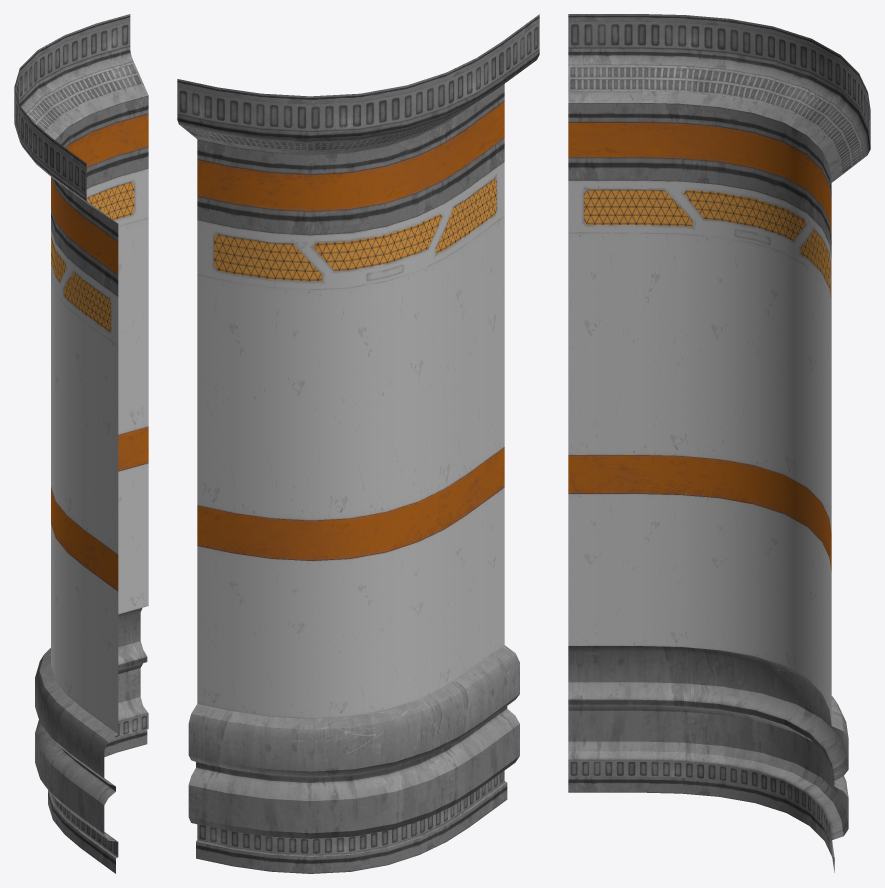
The model's file is CornerLonger_1.fbx.
The picture shows the model from 3 angles, left to right: view 1: azimuth 30°, elevation 25°; view 2: azimuth 150°, elevation 25°; view 3: azimuth 270°, elevation 25°; orthographic projection. The views are drawn at different scales.
Parts seen in each view (by area): view 1: Wall_CurvedOutside__1_.001; view 2: Wall_CurvedOutside__1_.001; view 3: Wall_CurvedOutside__1_.001.
Part boxes in pixels (left/top/right/bottom): Wall_CurvedOutside__1_.001: left=14, top=14, right=148, bottom=873; Wall_CurvedOutside__1_.001: left=177, top=14, right=539, bottom=873; Wall_CurvedOutside__1_.001: left=568, top=14, right=870, bottom=872.
Size of the model in its own units: 2.37 by 8.76 by 3.14.
